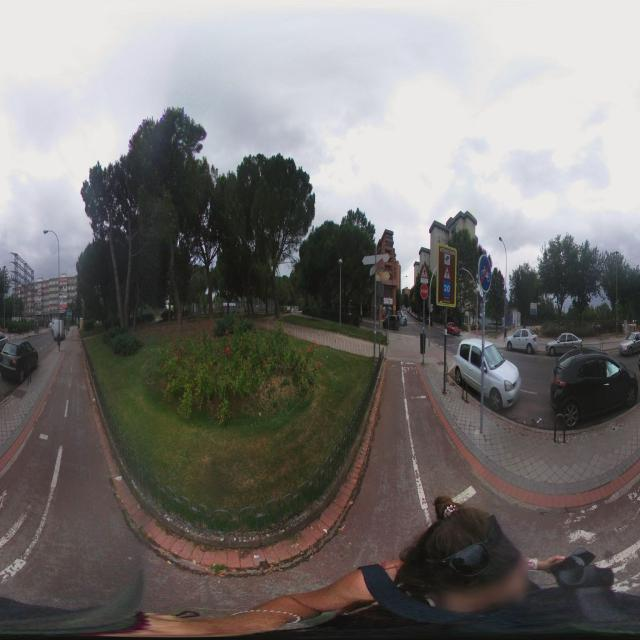car: (550, 352, 640, 429), (452, 338, 522, 414), (0, 339, 39, 387), (506, 326, 538, 354), (548, 331, 583, 356), (619, 331, 640, 356), (382, 311, 398, 331), (445, 321, 461, 337)
